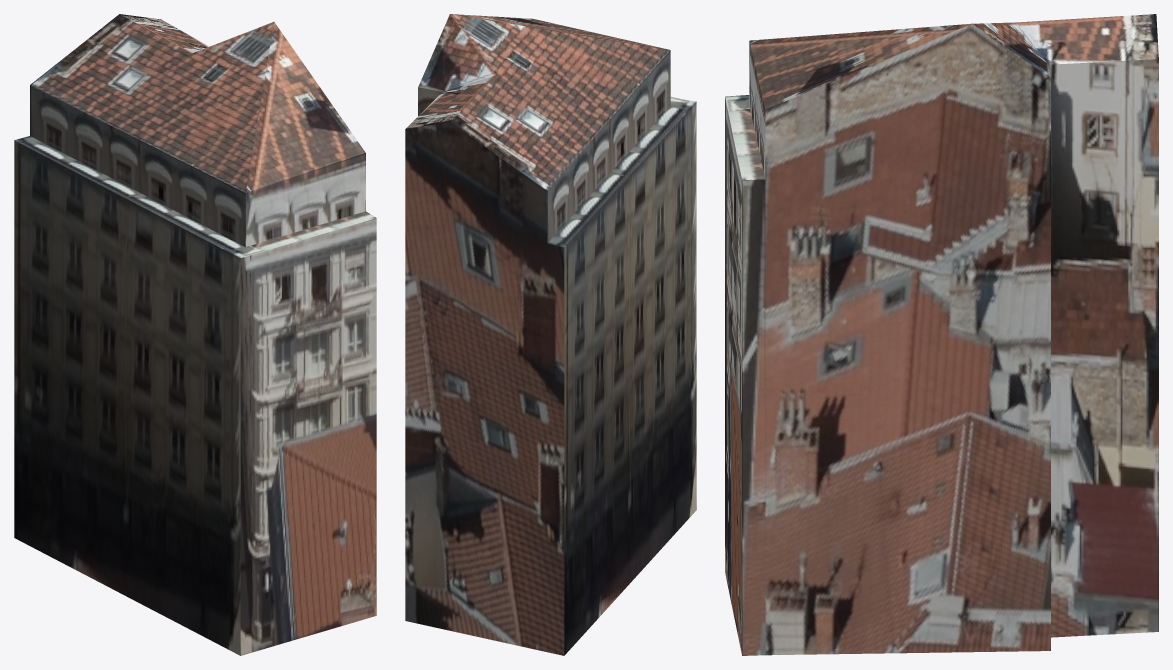
3 views of the same model, side by side, from view 1: azimuth 30°, elevation 25°; view 2: azimuth 150°, elevation 25°; view 3: azimuth 270°, elevation 25° (orthographic). The views are drawn at different scales.
Parts seen in each view (by area): view 1: Z_UP; view 2: Z_UP; view 3: Z_UP.
Part boxes in pixels (left/top/right/bottom): Z_UP: left=14, top=14, right=376, bottom=655; Z_UP: left=405, top=14, right=696, bottom=655; Z_UP: left=725, top=14, right=1158, bottom=655.
Size of the model in its own units: 10.35 by 27.04 by 16.92.
2 materials, 1 textured.
